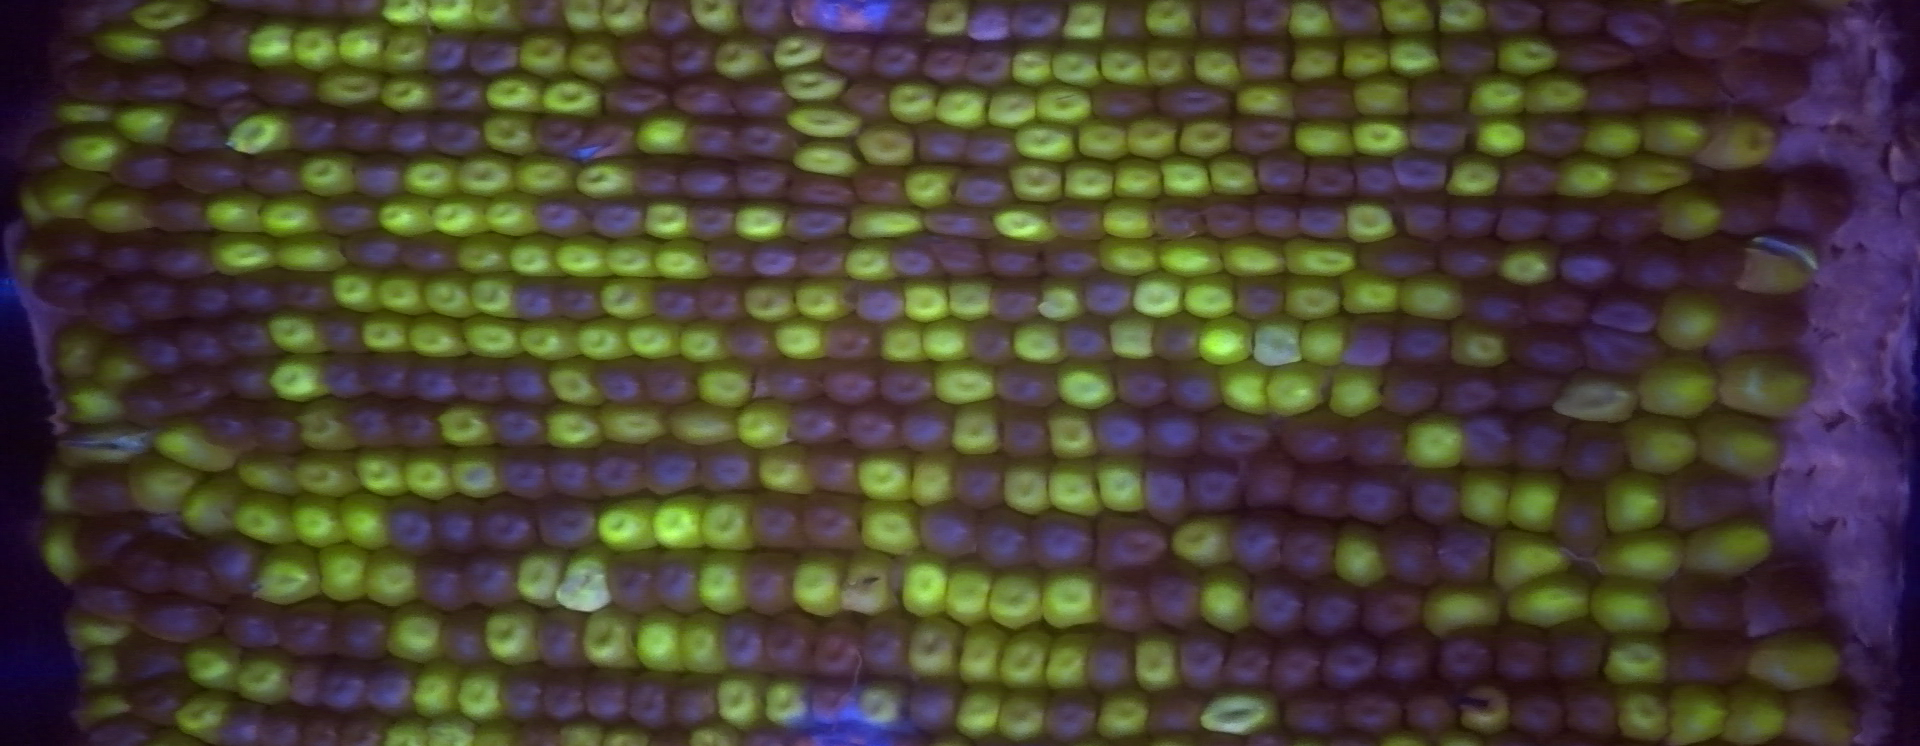fluorescent: (1684, 403, 1802, 484), (1712, 341, 1823, 423), (1738, 627, 1851, 697), (1416, 573, 1523, 646), (1733, 229, 1833, 303), (1584, 522, 1700, 586), (1484, 524, 1593, 590), (1633, 347, 1728, 423), (1678, 514, 1783, 582), (1583, 571, 1684, 641), (1693, 103, 1785, 179), (242, 539, 332, 611), (1547, 367, 1646, 432), (146, 413, 245, 477), (1502, 571, 1603, 633), (1616, 410, 1709, 477), (122, 454, 209, 523), (1326, 516, 1397, 599), (1162, 511, 1256, 573), (1712, 681, 1802, 746), (1776, 684, 1867, 746), (1033, 561, 1112, 633), (1647, 180, 1730, 247), (1651, 285, 1731, 354), (593, 392, 688, 450), (662, 392, 756, 451), (1195, 686, 1294, 741), (789, 546, 855, 628), (480, 597, 552, 671), (1400, 405, 1476, 477), (378, 597, 454, 668), (176, 472, 250, 544), (1190, 566, 1265, 637), (549, 548, 626, 616), (1636, 104, 1720, 165), (983, 567, 1054, 639), (1594, 633, 1681, 692), (32, 165, 122, 222), (1602, 473, 1679, 539), (1389, 266, 1474, 325), (1502, 465, 1569, 541), (942, 557, 1008, 633), (578, 601, 643, 679), (1261, 358, 1341, 420), (1662, 681, 1738, 746), (853, 492, 931, 556), (591, 489, 669, 552), (228, 489, 305, 552), (51, 119, 138, 175), (105, 99, 202, 149), (233, 446, 316, 503), (309, 538, 375, 610), (228, 643, 300, 709), (288, 397, 367, 457), (1455, 463, 1520, 537), (32, 516, 96, 590), (838, 552, 907, 620), (1611, 680, 1682, 746), (535, 401, 617, 457), (358, 548, 426, 615), (1611, 154, 1703, 205), (693, 551, 764, 616), (633, 606, 692, 685), (1211, 358, 1284, 420), (731, 392, 804, 454), (442, 446, 516, 508), (328, 489, 402, 551), (675, 605, 737, 679), (1324, 358, 1393, 423), (1493, 236, 1575, 292), (47, 314, 111, 382), (1089, 451, 1152, 521), (507, 544, 569, 615), (1131, 628, 1194, 699), (84, 184, 164, 239), (60, 604, 143, 657), (648, 490, 714, 556), (947, 396, 1014, 461), (407, 657, 475, 720), (181, 637, 253, 697), (222, 105, 304, 158), (452, 147, 527, 205), (89, 334, 156, 399), (457, 309, 536, 363), (1052, 356, 1128, 413), (538, 356, 613, 413), (284, 492, 355, 552), (203, 228, 284, 281), (50, 425, 156, 465), (898, 551, 956, 624), (693, 356, 767, 414), (1333, 263, 1408, 320), (754, 439, 822, 501), (780, 96, 866, 145), (784, 134, 869, 183), (1280, 272, 1356, 327), (271, 228, 351, 279), (696, 488, 759, 552), (1044, 461, 1111, 523), (904, 615, 966, 681), (1037, 408, 1112, 463), (327, 260, 396, 320), (927, 356, 1007, 408), (1520, 69, 1596, 122), (264, 304, 336, 361), (432, 397, 504, 453), (855, 447, 920, 510), (478, 189, 551, 244), (994, 628, 1056, 695), (1089, 232, 1173, 279), (1442, 146, 1511, 205), (1218, 233, 1297, 284), (784, 272, 862, 323), (955, 616, 1009, 691), (419, 267, 489, 325), (1445, 316, 1516, 372), (1228, 77, 1304, 130), (509, 151, 589, 201), (842, 201, 938, 243), (711, 671, 775, 734), (1128, 267, 1193, 328), (1155, 235, 1236, 284), (988, 196, 1067, 246), (998, 456, 1060, 518), (454, 661, 516, 725), (54, 381, 137, 428), (1349, 69, 1419, 124), (173, 688, 242, 744), (775, 60, 860, 105), (767, 314, 838, 367), (980, 78, 1044, 137), (313, 62, 389, 113), (538, 73, 613, 124), (593, 274, 669, 325), (1193, 310, 1259, 367), (288, 448, 367, 496), (1032, 271, 1100, 327), (398, 448, 465, 505), (479, 66, 556, 115), (736, 273, 804, 328), (462, 269, 530, 325), (407, 309, 476, 363), (1376, 33, 1455, 81), (1288, 114, 1367, 162), (359, 303, 422, 361), (1495, 32, 1566, 85), (1242, 314, 1307, 371), (397, 149, 473, 198), (200, 185, 276, 234), (1280, 235, 1362, 281), (727, 196, 800, 247), (1340, 192, 1407, 247), (907, 446, 962, 513), (62, 687, 140, 735), (350, 443, 414, 501), (427, 190, 502, 239), (1042, 630, 1098, 695), (1007, 157, 1078, 208), (1199, 153, 1270, 205), (632, 105, 704, 156), (260, 191, 336, 239), (91, 24, 175, 67), (285, 15, 345, 75), (951, 684, 1011, 744), (851, 673, 911, 733), (478, 109, 551, 158), (517, 314, 590, 363), (264, 352, 338, 401), (1011, 120, 1089, 167), (1180, 271, 1250, 322), (514, 29, 579, 85), (931, 78, 996, 134), (1580, 110, 1651, 160), (713, 33, 780, 86), (1288, 314, 1356, 366), (851, 118, 923, 167), (1550, 156, 1622, 205), (294, 149, 370, 196), (994, 690, 1057, 746), (1093, 195, 1167, 243), (624, 311, 688, 366), (240, 13, 305, 67), (500, 232, 564, 285), (651, 235, 716, 289), (1090, 687, 1157, 739), (1343, 115, 1419, 160), (1011, 315, 1076, 367), (561, 34, 627, 86), (1466, 114, 1538, 160), (1048, 40, 1113, 92), (902, 158, 967, 209), (838, 238, 902, 289), (336, 18, 396, 73), (1035, 78, 1095, 134), (371, 263, 431, 318), (1464, 72, 1536, 119), (1103, 309, 1164, 363), (940, 271, 1003, 323), (376, 190, 444, 238), (571, 316, 640, 363), (1191, 37, 1250, 92), (599, 233, 665, 282), (1174, 113, 1242, 160), (885, 73, 942, 130), (378, 27, 437, 81), (917, 315, 978, 366), (1157, 153, 1220, 203), (61, 643, 132, 687), (1120, 111, 1184, 160), (1284, 39, 1349, 87), (576, 158, 648, 201), (873, 316, 933, 367), (376, 71, 446, 115), (126, 1, 216, 36), (1073, 115, 1136, 163), (1059, 160, 1123, 208), (760, 677, 813, 735), (673, 318, 735, 367), (771, 28, 835, 75), (1098, 38, 1156, 89), (33, 463, 84, 521), (452, 233, 520, 276), (11, 176, 60, 235), (552, 234, 613, 281), (902, 276, 958, 327), (1338, 34, 1398, 81), (1378, 1, 1446, 40), (1281, 1, 1343, 44), (1140, 1, 1204, 43), (47, 94, 126, 127), (640, 195, 699, 239), (1008, 39, 1059, 89), (424, 1, 493, 38), (1054, 1, 1113, 44), (1111, 158, 1169, 201), (465, 1, 531, 39), (1138, 42, 1195, 85), (1434, 1, 1493, 40), (680, 713, 748, 746), (691, 1, 748, 39), (599, 1, 654, 40), (375, 1, 441, 33), (558, 1, 613, 39), (924, 1, 975, 42), (421, 710, 478, 746), (467, 710, 523, 746), (551, 715, 615, 746), (598, 717, 660, 746), (11, 243, 51, 285), (378, 719, 436, 746)
nonfluorescent: (1704, 296, 1805, 359), (1724, 49, 1810, 104), (1093, 516, 1167, 579), (1670, 465, 1746, 526), (1742, 575, 1820, 630), (1667, 628, 1742, 682), (759, 608, 816, 680), (1576, 323, 1663, 370), (1641, 53, 1709, 111), (1509, 320, 1583, 371), (1554, 481, 1607, 554), (1032, 514, 1097, 572), (802, 495, 862, 556), (327, 603, 388, 663), (973, 510, 1033, 570), (1749, 9, 1826, 55), (1675, 570, 1735, 628), (1780, 174, 1838, 235), (743, 548, 793, 617), (133, 597, 211, 642), (174, 149, 249, 196), (1348, 465, 1404, 527), (429, 492, 480, 559), (383, 495, 437, 557), (1462, 279, 1527, 331), (1433, 526, 1490, 583), (748, 490, 804, 549), (1344, 410, 1404, 465), (1176, 628, 1229, 690), (1359, 232, 1434, 276), (1671, 11, 1745, 55), (858, 609, 909, 673), (279, 601, 336, 658), (1506, 414, 1564, 469), (539, 499, 598, 552), (34, 260, 100, 307), (609, 548, 658, 611), (441, 603, 490, 666), (655, 549, 700, 617), (917, 503, 973, 559), (1300, 577, 1357, 632), (1251, 576, 1305, 633), (71, 577, 143, 620), (149, 185, 211, 235), (1287, 412, 1348, 462), (1205, 410, 1267, 459), (67, 465, 131, 513), (1490, 626, 1544, 682), (82, 282, 140, 334), (1232, 512, 1283, 571), (697, 443, 758, 492), (1291, 457, 1340, 518), (644, 437, 699, 491), (1380, 635, 1435, 688), (207, 535, 260, 592), (1684, 236, 1741, 288), (1092, 405, 1150, 457), (1565, 425, 1622, 477), (1149, 566, 1200, 624), (1711, 178, 1766, 230), (954, 451, 1005, 507), (1386, 518, 1429, 586), (1191, 454, 1240, 513), (1270, 639, 1319, 698), (1365, 583, 1420, 635), (124, 277, 186, 322), (1322, 635, 1373, 691), (1284, 522, 1333, 579), (500, 352, 551, 405), (1109, 358, 1166, 407), (493, 450, 550, 499), (1494, 367, 1560, 409), (540, 603, 582, 669), (1393, 320, 1451, 367), (1097, 573, 1144, 632), (926, 198, 993, 239), (816, 619, 861, 679), (1458, 414, 1511, 465), (593, 443, 644, 496), (1142, 461, 1187, 522), (122, 541, 178, 590), (583, 666, 632, 722), (133, 677, 195, 722), (538, 192, 594, 240), (1622, 245, 1679, 293), (1089, 628, 1128, 697), (1342, 686, 1400, 733), (77, 514, 136, 560), (1583, 67, 1643, 111), (480, 502, 531, 554), (320, 659, 369, 713), (1509, 685, 1562, 734), (1502, 153, 1558, 201), (670, 671, 718, 726), (1151, 194, 1209, 239), (411, 559, 463, 609), (1000, 405, 1049, 458), (782, 169, 855, 205), (464, 31, 519, 77), (1087, 81, 1152, 120), (67, 60, 125, 104), (1297, 78, 1354, 122), (1491, 197, 1549, 241), (1551, 619, 1596, 676), (1160, 88, 1231, 124), (993, 358, 1052, 401), (1240, 453, 1289, 505), (167, 110, 230, 149), (817, 359, 873, 403), (471, 552, 516, 609), (1596, 197, 1657, 238), (37, 216, 94, 258), (500, 666, 542, 724), (1600, 9, 1665, 47), (902, 405, 953, 454), (842, 405, 895, 452), (822, 314, 876, 359), (1171, 356, 1215, 412), (182, 64, 242, 104), (1439, 36, 1495, 78), (1058, 318, 1114, 361), (456, 355, 504, 404), (182, 271, 233, 318), (645, 358, 696, 405), (1441, 370, 1491, 418), (891, 230, 943, 277), (536, 669, 583, 720), (116, 648, 181, 685), (680, 160, 733, 205), (1378, 370, 1431, 414), (1145, 408, 1199, 452), (767, 358, 822, 401), (1414, 465, 1457, 521), (606, 75, 662, 116), (339, 103, 389, 149), (1569, 684, 1615, 734), (549, 450, 600, 495), (1149, 317, 1206, 358), (1412, 72, 1464, 116), (1544, 198, 1597, 243), (882, 360, 934, 404), (249, 409, 301, 453), (954, 167, 1008, 209), (1231, 273, 1284, 316), (1523, 285, 1582, 325), (1555, 38, 1627, 70), (120, 383, 176, 424), (1201, 192, 1253, 236), (407, 358, 459, 401), (726, 611, 765, 669), (1406, 118, 1467, 154), (1344, 315, 1386, 369), (321, 194, 380, 232), (1051, 198, 1106, 239), (1303, 156, 1349, 203), (911, 679, 958, 726), (989, 276, 1040, 320), (1149, 688, 1199, 733), (740, 122, 796, 162), (151, 239, 207, 278), (784, 403, 840, 442), (598, 358, 649, 401), (588, 196, 640, 238), (111, 149, 175, 184), (989, 240, 1043, 281), (784, 201, 845, 236), (344, 402, 389, 450), (812, 445, 857, 492), (340, 234, 399, 271), (1559, 246, 1614, 285), (369, 660, 413, 709), (1249, 194, 1299, 236), (673, 75, 733, 110), (633, 666, 669, 726), (490, 407, 542, 447), (1392, 153, 1446, 192), (1440, 240, 1494, 279), (129, 331, 175, 376), (1440, 639, 1487, 685), (516, 274, 560, 322), (633, 154, 682, 197), (820, 36, 876, 73), (1256, 151, 1307, 192), (229, 266, 279, 307), (1086, 272, 1136, 314), (719, 326, 778, 361), (735, 77, 786, 118), (1547, 1, 1603, 38), (1593, 295, 1656, 328), (430, 113, 482, 152), (622, 34, 669, 78), (1401, 196, 1447, 240), (324, 353, 367, 401), (702, 239, 756, 277), (167, 372, 220, 410), (391, 402, 440, 443), (224, 603, 274, 643), (253, 69, 315, 102), (1528, 116, 1580, 156), (1282, 690, 1333, 729), (280, 273, 337, 309), (1444, 201, 1496, 239), (280, 655, 324, 701), (691, 118, 738, 159), (294, 107, 336, 154), (1482, 1, 1542, 34), (1236, 118, 1289, 154), (733, 160, 787, 197), (1228, 635, 1269, 684), (1238, 39, 1288, 78), (587, 118, 638, 156), (539, 110, 583, 154), (917, 122, 962, 165), (658, 281, 703, 323), (318, 307, 364, 350), (1407, 690, 1452, 733), (560, 274, 606, 316), (1047, 688, 1089, 735), (1349, 159, 1397, 200), (749, 239, 797, 279), (860, 278, 907, 318), (249, 156, 298, 195), (1296, 197, 1344, 236), (855, 165, 909, 201), (969, 318, 1011, 363), (437, 70, 482, 111), (208, 15, 249, 61), (204, 407, 252, 446), (403, 236, 456, 272), (127, 65, 181, 99), (700, 281, 743, 323), (355, 149, 397, 194), (811, 677, 852, 722), (86, 717, 157, 742), (1238, 2, 1284, 42), (934, 238, 983, 274), (369, 353, 411, 394), (1100, 2, 1146, 40), (96, 238, 144, 273), (164, 21, 206, 62), (389, 115, 432, 156), (691, 198, 735, 238), (424, 31, 464, 72), (230, 316, 269, 358), (222, 699, 261, 741), (179, 323, 217, 365), (227, 367, 274, 401), (871, 45, 913, 82), (182, 555, 219, 598), (1011, 7, 1060, 39), (965, 132, 1014, 164), (1048, 243, 1093, 277), (672, 34, 710, 75), (262, 706, 302, 744), (802, 243, 844, 279), (842, 80, 889, 111), (1198, 4, 1239, 38), (965, 49, 1008, 82), (647, 4, 694, 33), (1332, 4, 1380, 33), (887, 1, 926, 37), (740, 1, 789, 29), (339, 717, 388, 744), (300, 712, 336, 745), (924, 47, 962, 77), (216, 97, 257, 124)
